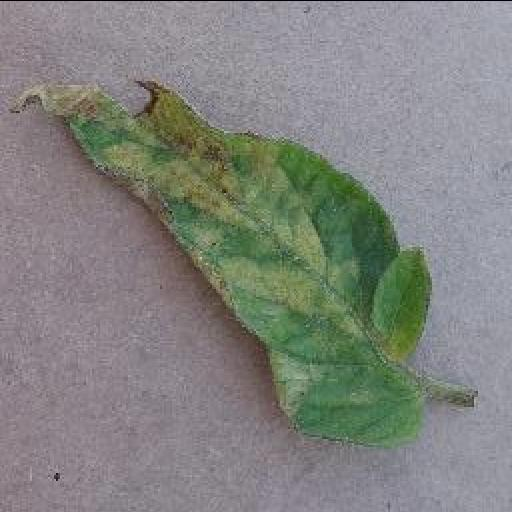disease_tomato: (0, 78, 432, 446)
